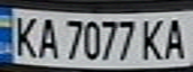0: (81, 17, 103, 61)
7: (60, 16, 84, 61), (115, 17, 139, 62), (100, 17, 121, 61)
A: (160, 15, 193, 61), (33, 15, 60, 60)
K: (9, 12, 42, 59), (136, 16, 169, 62)
